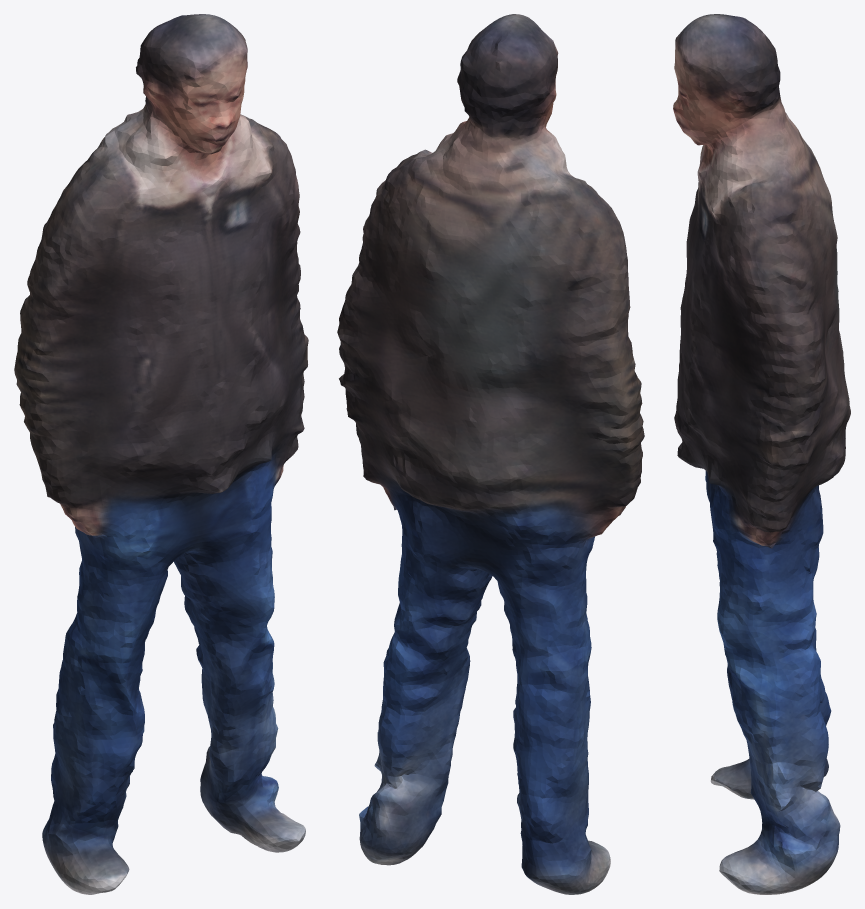
File: 002_gau.glb
The picture shows the model from 3 angles, left to right: view 1: azimuth 30°, elevation 25°; view 2: azimuth 150°, elevation 25°; view 3: azimuth 270°, elevation 25°; orthographic projection. The views are drawn at different scales.
Bounding box in the file's own units: 0.5315 × 1.52 × 0.295.
1 material, 1 textured.
